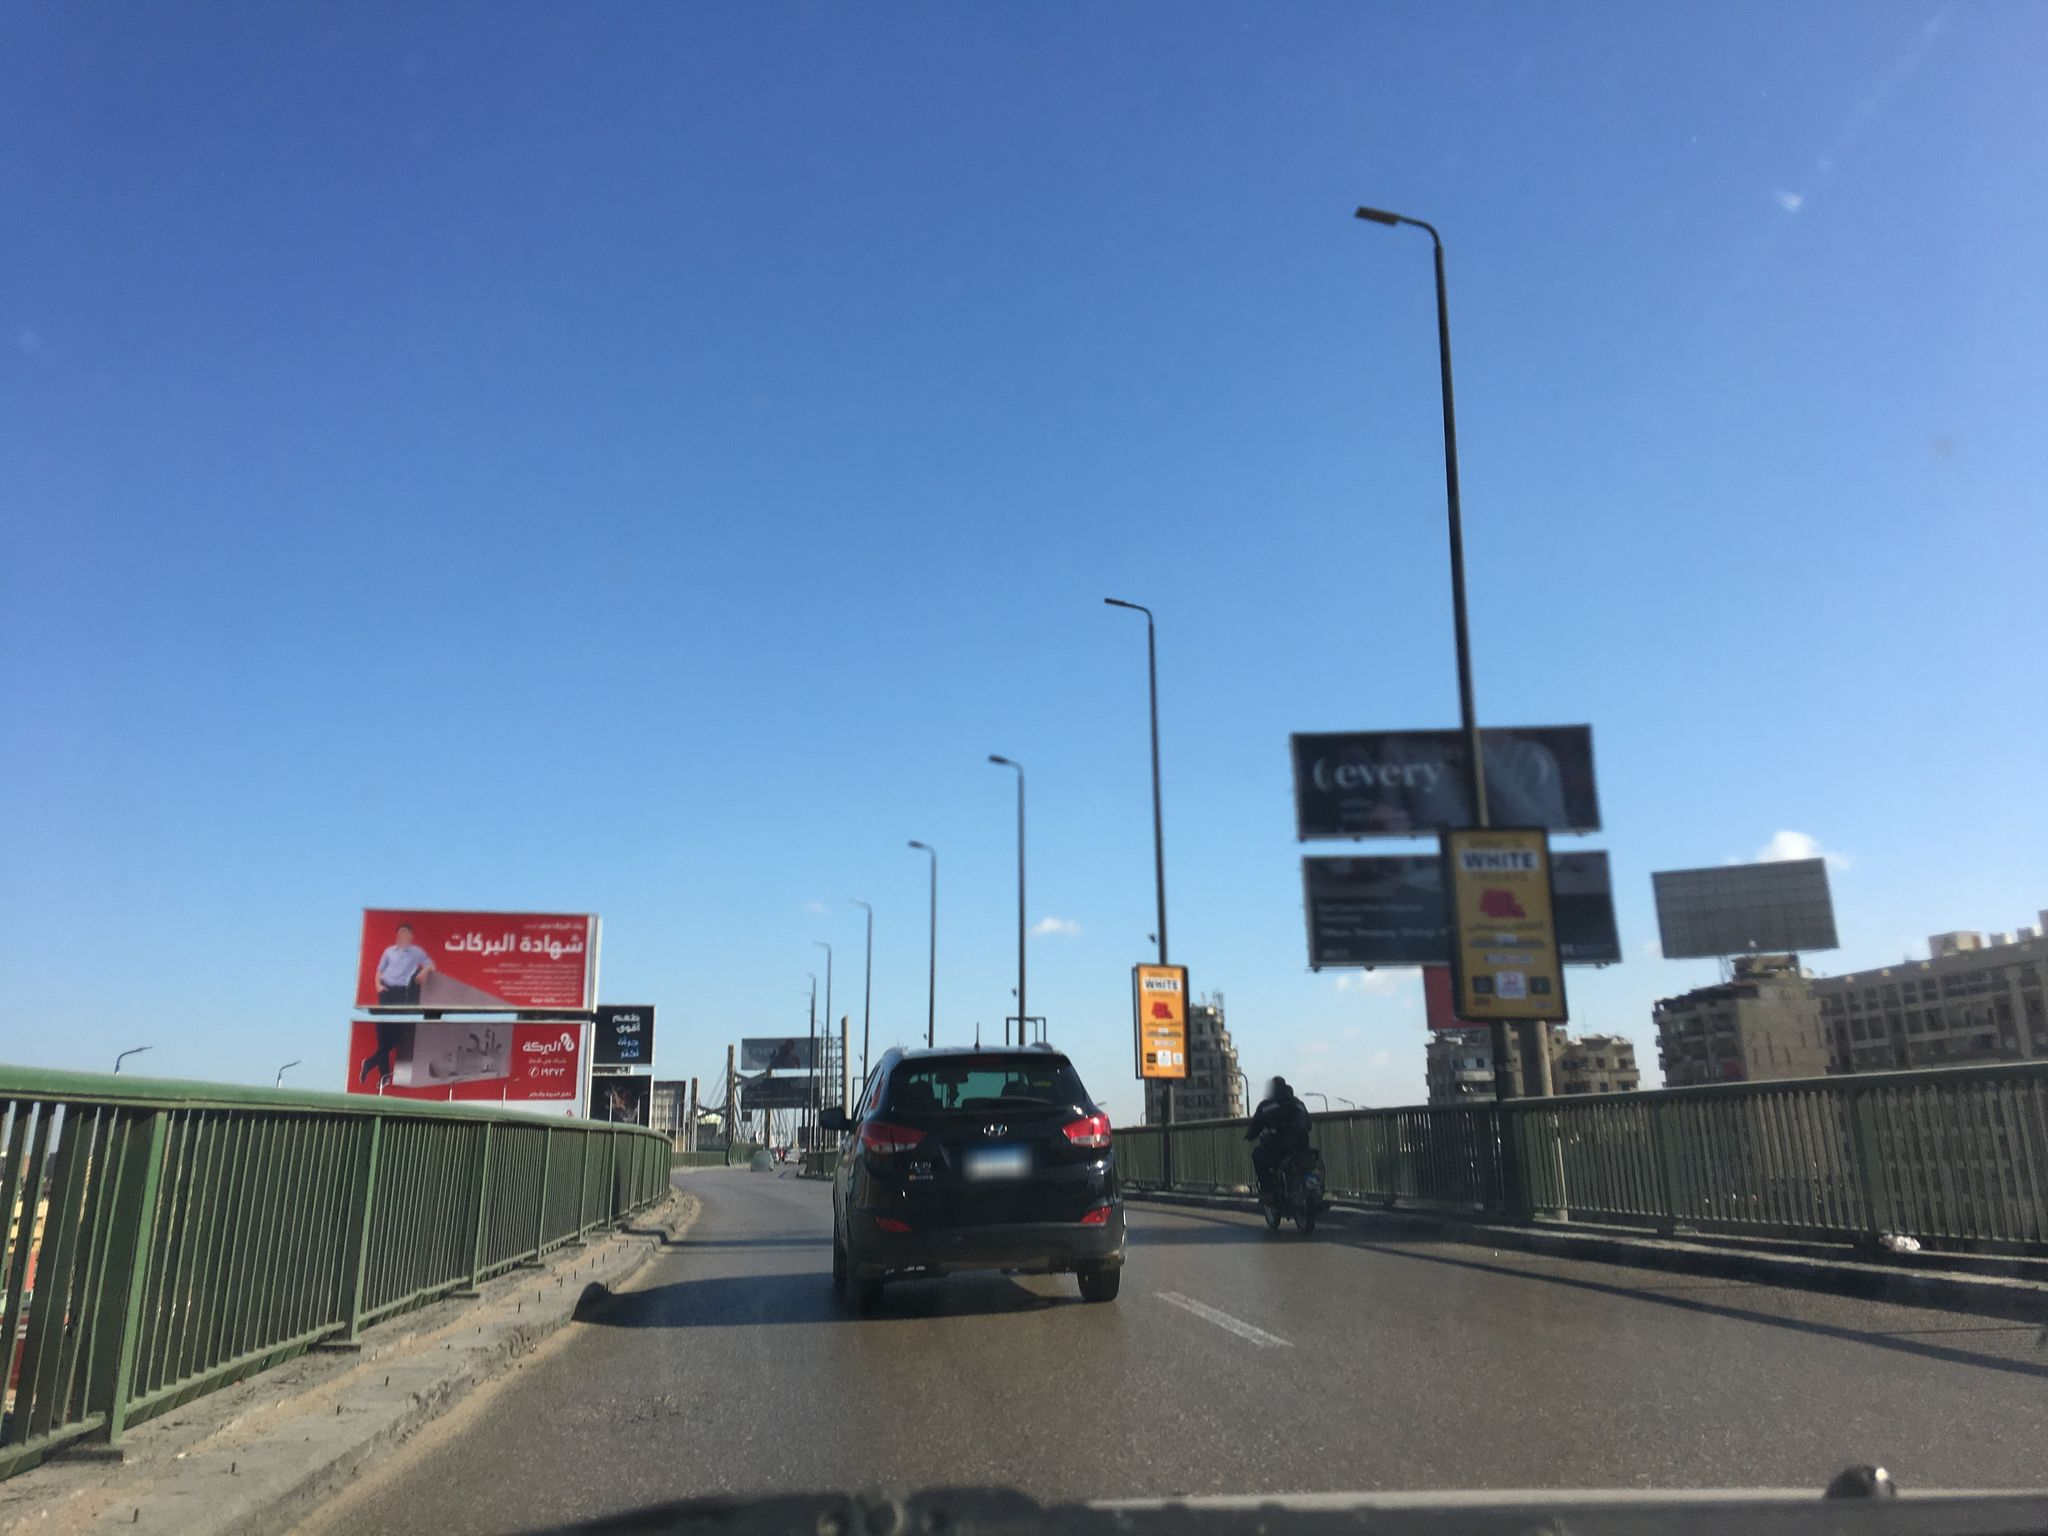car: (819, 1039, 1130, 1305)
motorcycle: (1245, 1118, 1332, 1241)
